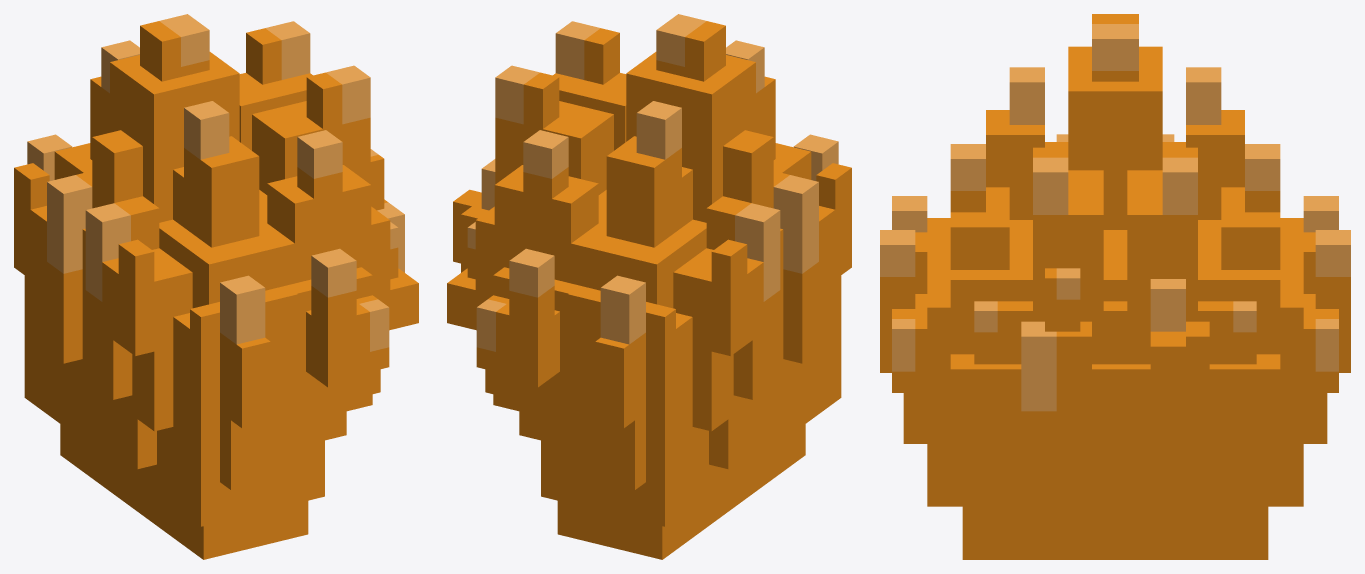
File: av_hair_ginger.glb
3 renders of one model, left to right at view 1: azimuth 30°, elevation 25°; view 2: azimuth 150°, elevation 25°; view 3: azimuth 270°, elevation 25°, orthographic. The views are drawn at different scales.
Visible parts, largest first — view 1: model; view 2: model; view 3: model.
Part boxes in pixels (<box>): model: <box>14,14,418,559</box>; model: <box>447,14,851,559</box>; model: <box>880,14,1350,559</box>.
Bounding box in the file's own units: 0.32 × 0.47 × 0.4.
1 material, 1 textured.
